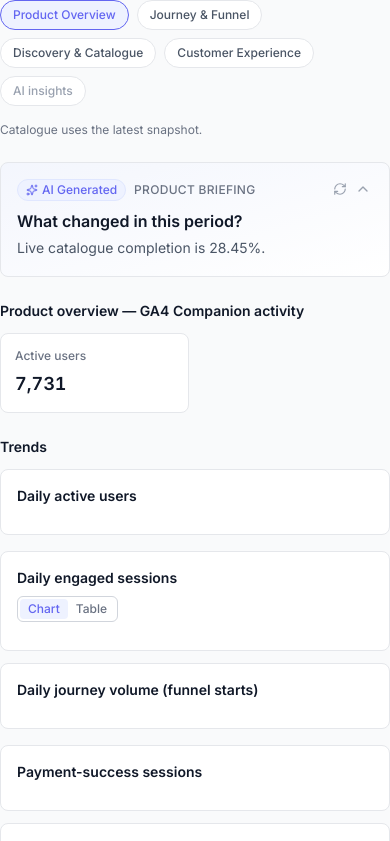
Test case: Companion Product Health live sections › shows an error and retries Journey & Funnel without substituting mock KPIs
The width and height of the screenshot is (390, 841).
Step 1. Click the button "Journey & Funnel" → [200, 15], box left=137, top=0, right=262, bottom=30
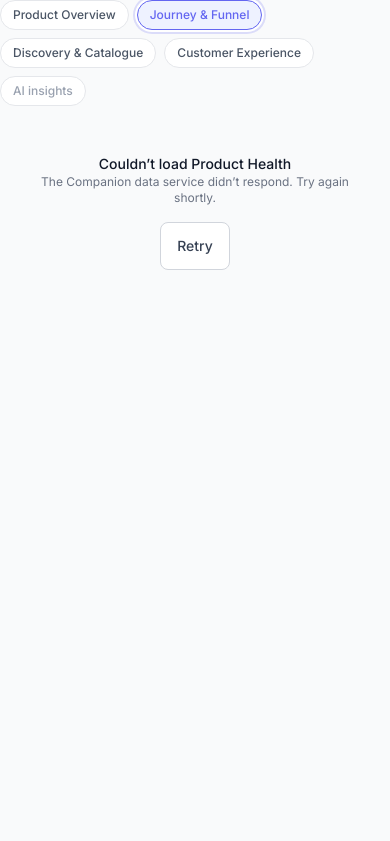
Expected: the text "47" is not shown
Now the text "Couldn’t load Product Health" is shown, box left=99, top=155, right=291, bottom=172
Step 2. Click the button "Retry" → [195, 246], box left=160, top=222, right=230, bottom=270
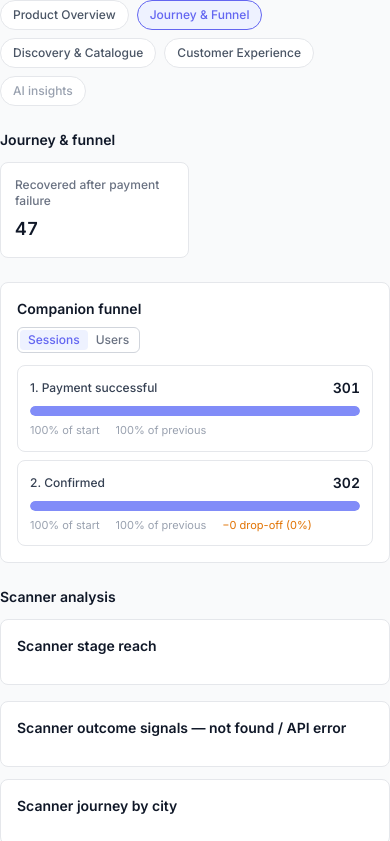
Now the text "47" is shown, box left=15, top=215, right=38, bottom=243
Now the text "Couldn’t load Product Health" is gone
